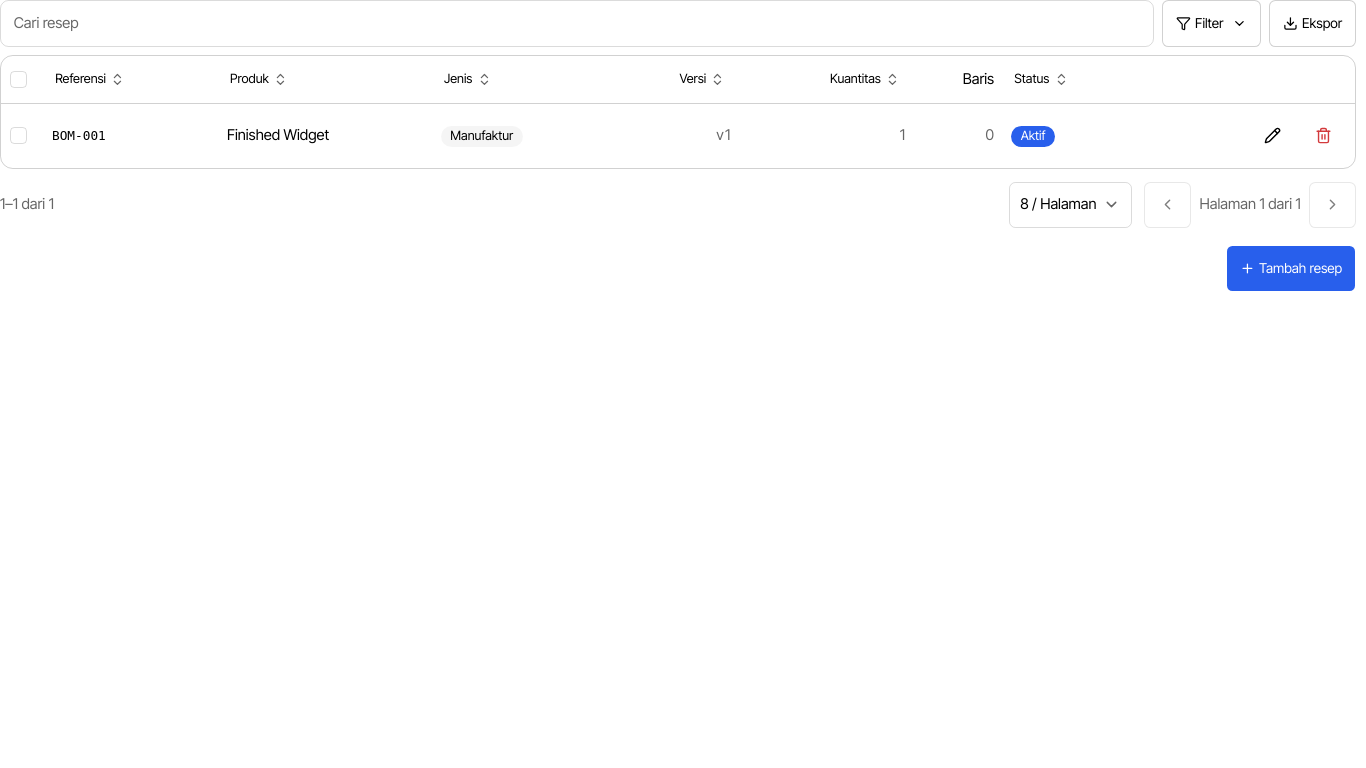
it: BomsSection › opens the create dialog from the add button
Expected: the text "BOM-001" is shown, x1=52 y1=128 x2=106 y2=143
Click the button "Tambah resep" at [1291, 269], box x1=1226 y1=245 x2=1356 y2=292
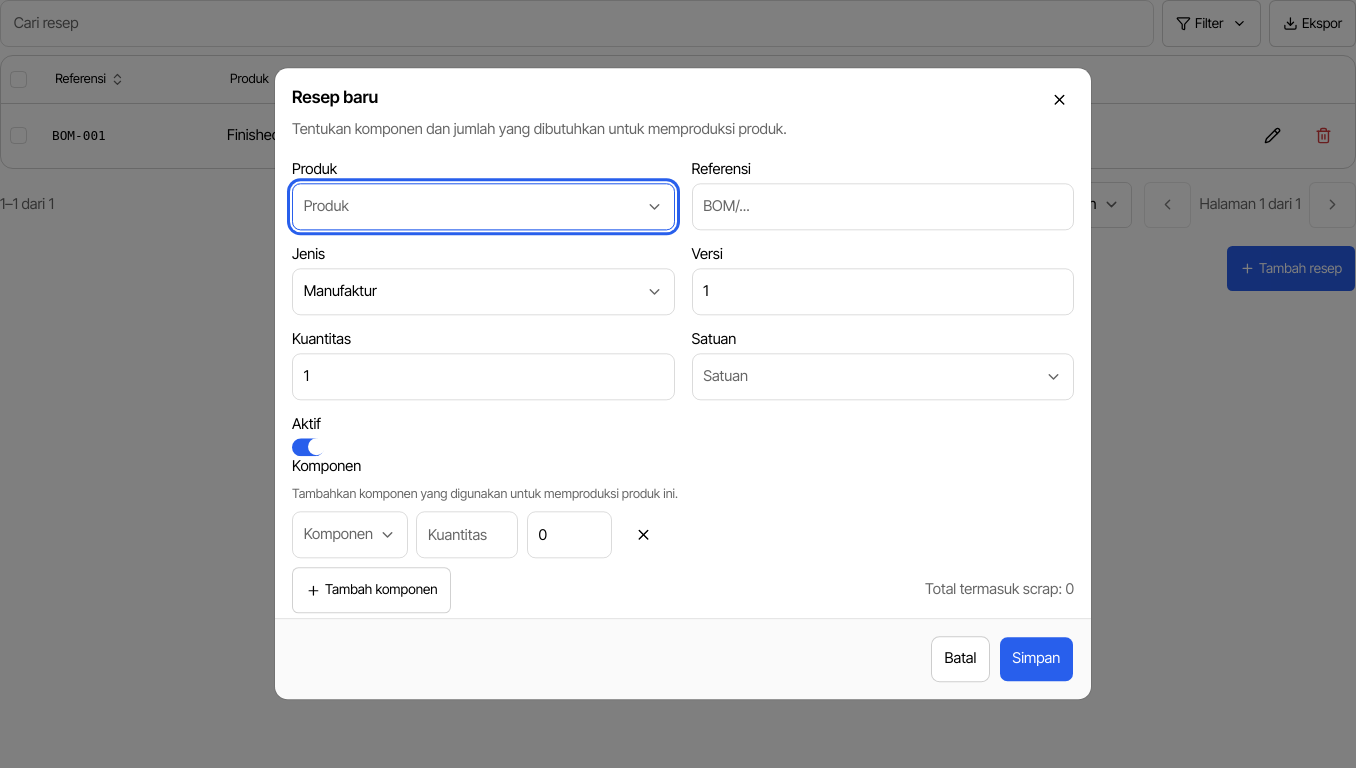
Now the dialog is shown, box x1=275 y1=68 x2=1091 y2=700
Now the heading "Resep baru" is shown, box x1=292 y1=85 x2=378 y2=111
